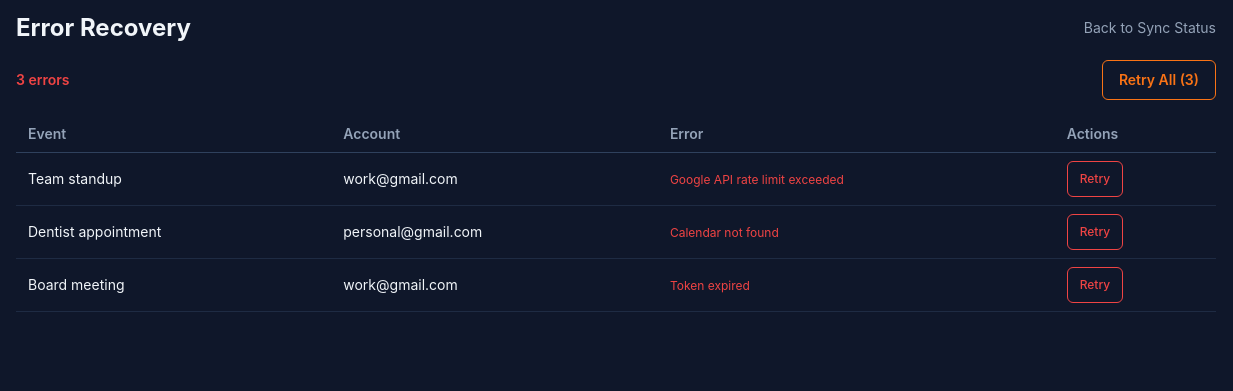
ErrorRecovery Page › integration: single mirror retry › shows error feedback when retry fails (exception)
The width and height of the screenshot is (1233, 391).
Click the button with test id "retry-btn-m1".
click(1095, 179)  # box [1067,161,1123,197]
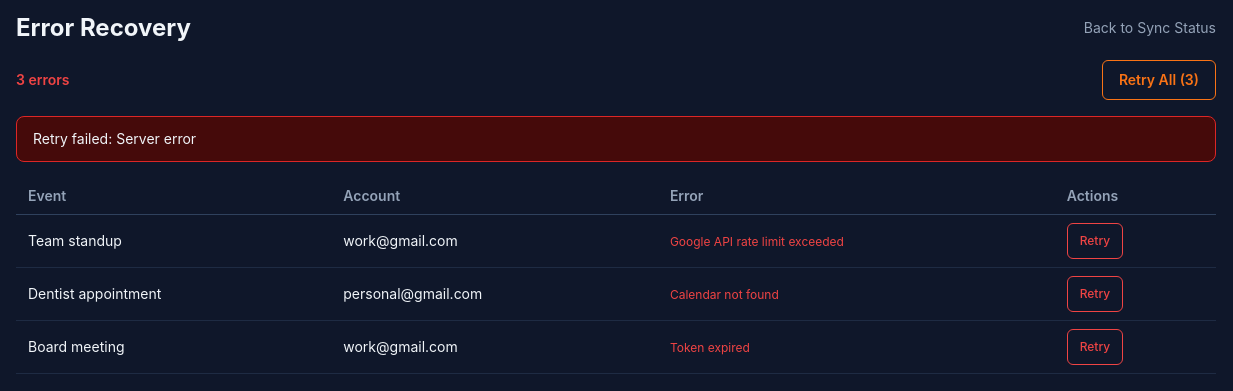
Now the text with test id "retry-status" shows "Server error", box [33,130,196,147]
